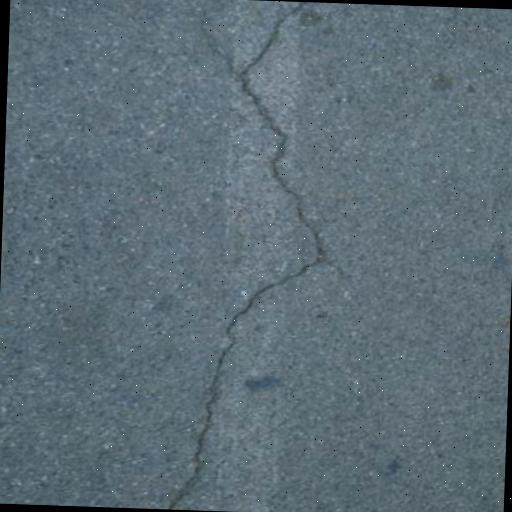spalling: (153, 7, 338, 504)
